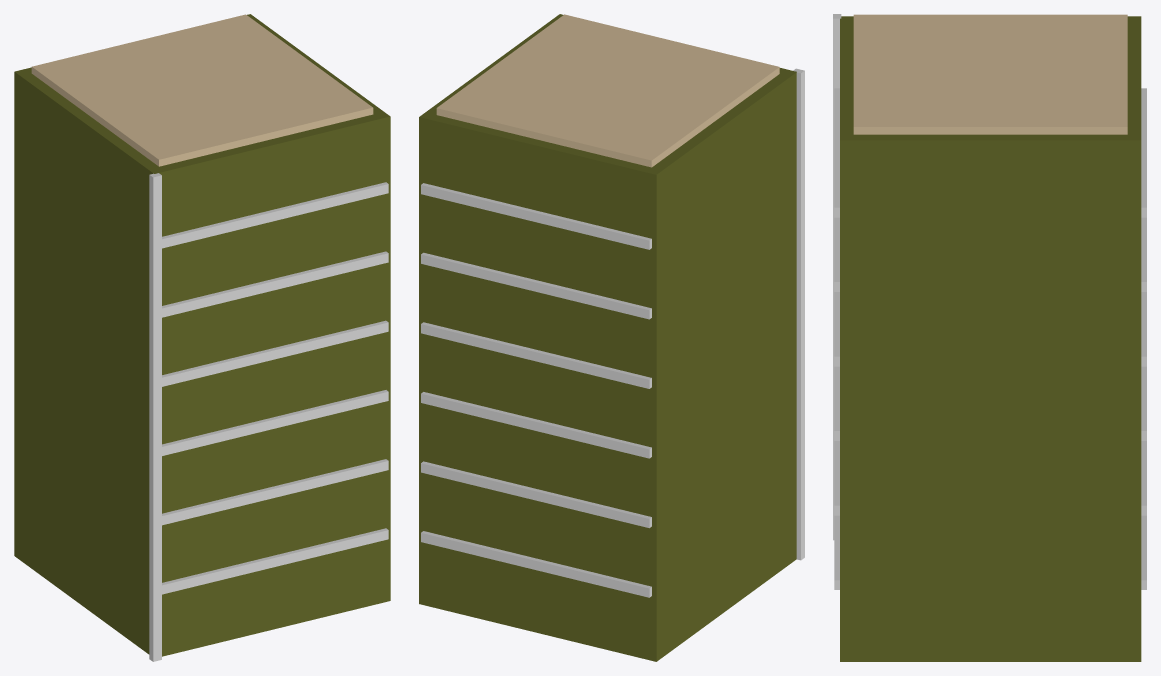
The model's file is SM_HescoCorto1_v1_Geotextil_e0_Sano_LOD0.fbx.
3 renders of one model, left to right at view 1: azimuth 30°, elevation 25°; view 2: azimuth 150°, elevation 25°; view 3: azimuth 270°, elevation 25°, orthographic. The views are drawn at different scales.
Visible parts, largest first — view 1: SM_hesco_piezas_v44_LOD0; view 2: SM_hesco_piezas_v44_LOD0; view 3: SM_hesco_piezas_v44_LOD0.
Part boxes in pixels (x1,y1,x2,y2): SM_hesco_piezas_v44_LOD0: [14, 14, 390, 661]; SM_hesco_piezas_v44_LOD0: [419, 14, 804, 661]; SM_hesco_piezas_v44_LOD0: [833, 14, 1146, 661].
Bounding box in the file's own units: 1.09 × 2.13 × 1.14.
